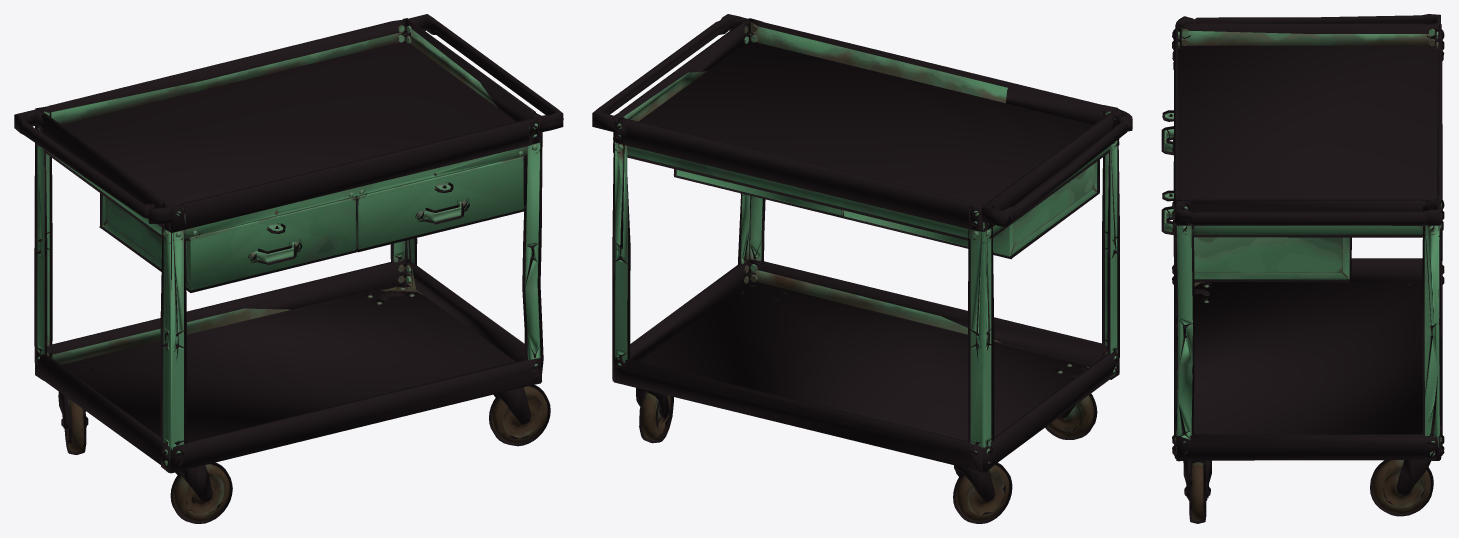
Rendered from SM_Int_ToolCart.fbx.
The picture shows the model from 3 angles, left to right: view 1: azimuth 30°, elevation 25°; view 2: azimuth 150°, elevation 25°; view 3: azimuth 270°, elevation 25°; orthographic projection. The views are drawn at different scales.
Visible parts, largest first — view 1: SM_Int_ToolCart; view 2: SM_Int_ToolCart; view 3: SM_Int_ToolCart.
Boxes of the visible parts, x1,y1,x2,y2 form: SM_Int_ToolCart: [14, 14, 563, 523]; SM_Int_ToolCart: [592, 14, 1132, 523]; SM_Int_ToolCart: [1161, 14, 1444, 523].
Size of what is drawn, in the model's own units: 1.29 by 0.9809 by 0.7682.
